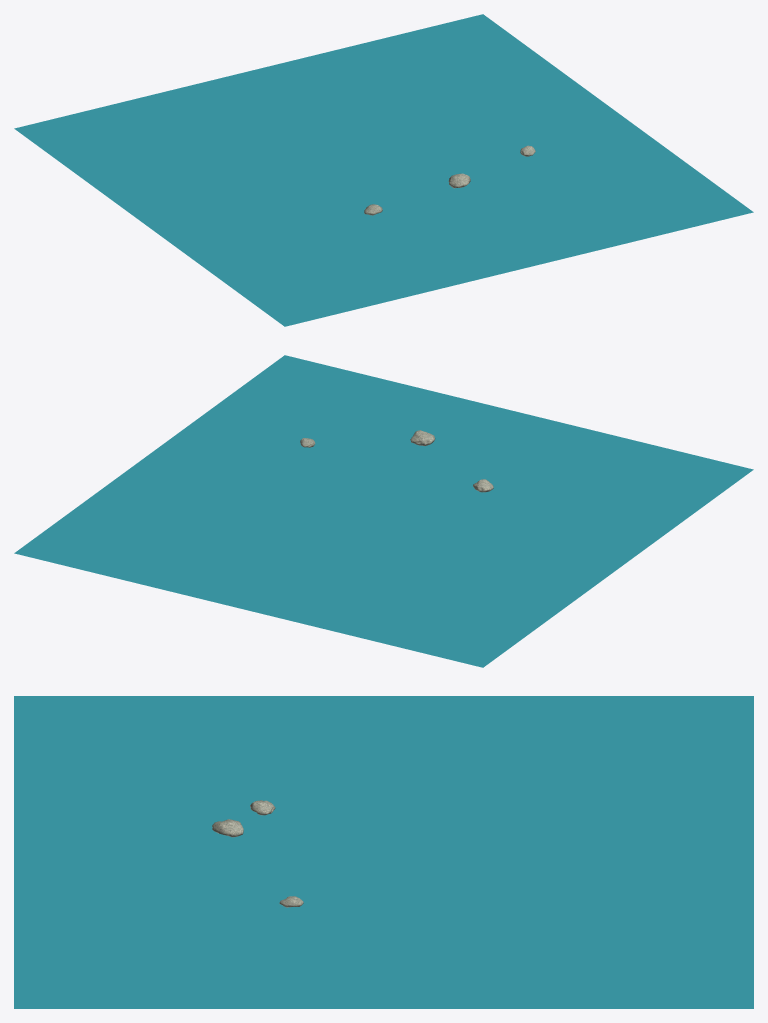
Rendered from coast-2-0.glb.
3 renders of one model, top to bottom at view 1: azimuth 30°, elevation 25°; view 2: azimuth 150°, elevation 25°; view 3: azimuth 270°, elevation 25°, orthographic. The views are drawn at different scales.
Visible parts, largest first — view 1: coast-2-0; view 2: coast-2-0; view 3: coast-2-0.
Part boxes in pixels (x1=…): coast-2-0: x1=14, y1=14, x2=753, y2=326; coast-2-0: x1=14, y1=355, x2=753, y2=667; coast-2-0: x1=14, y1=696, x2=753, y2=1008.
Bounding box in the file's own units: 256 × 16.83 × 256.
Materials: 4 (4 with a texture image).
